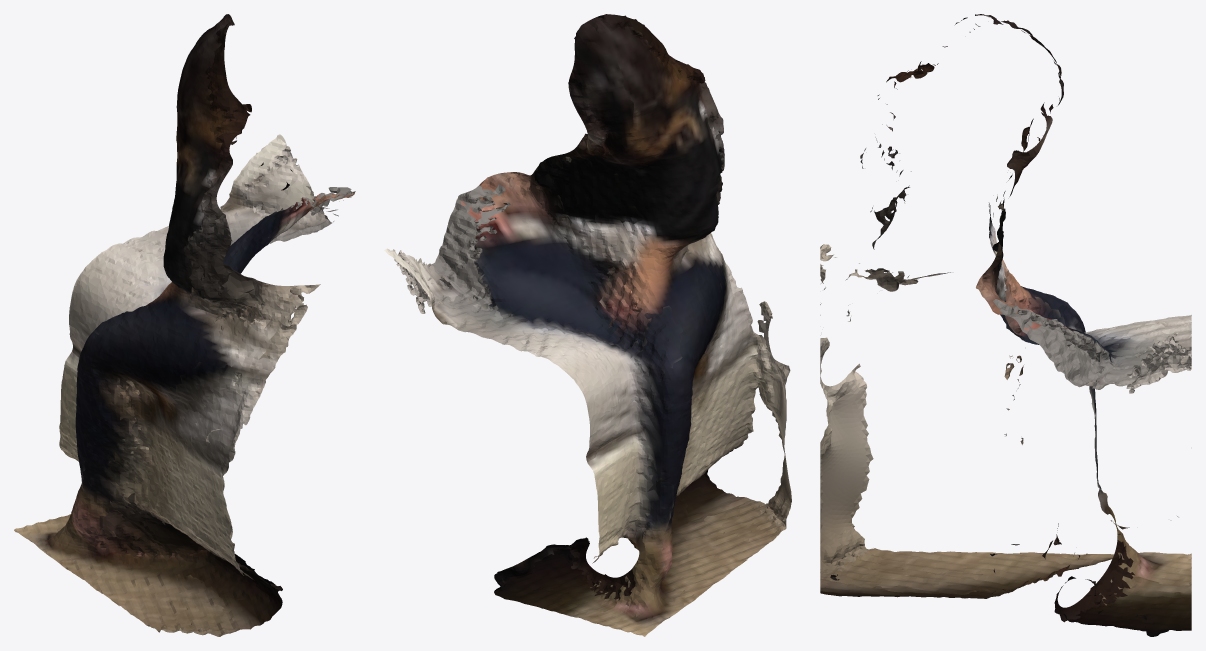
3 renders of one model, left to right at view 1: azimuth 30°, elevation 25°; view 2: azimuth 150°, elevation 25°; view 3: azimuth 270°, elevation 25°, orthographic. The views are drawn at different scales.
Bounding box in the file's own units: 0.6572 × 1.28 × 0.7086.
1 material, 1 textured.
